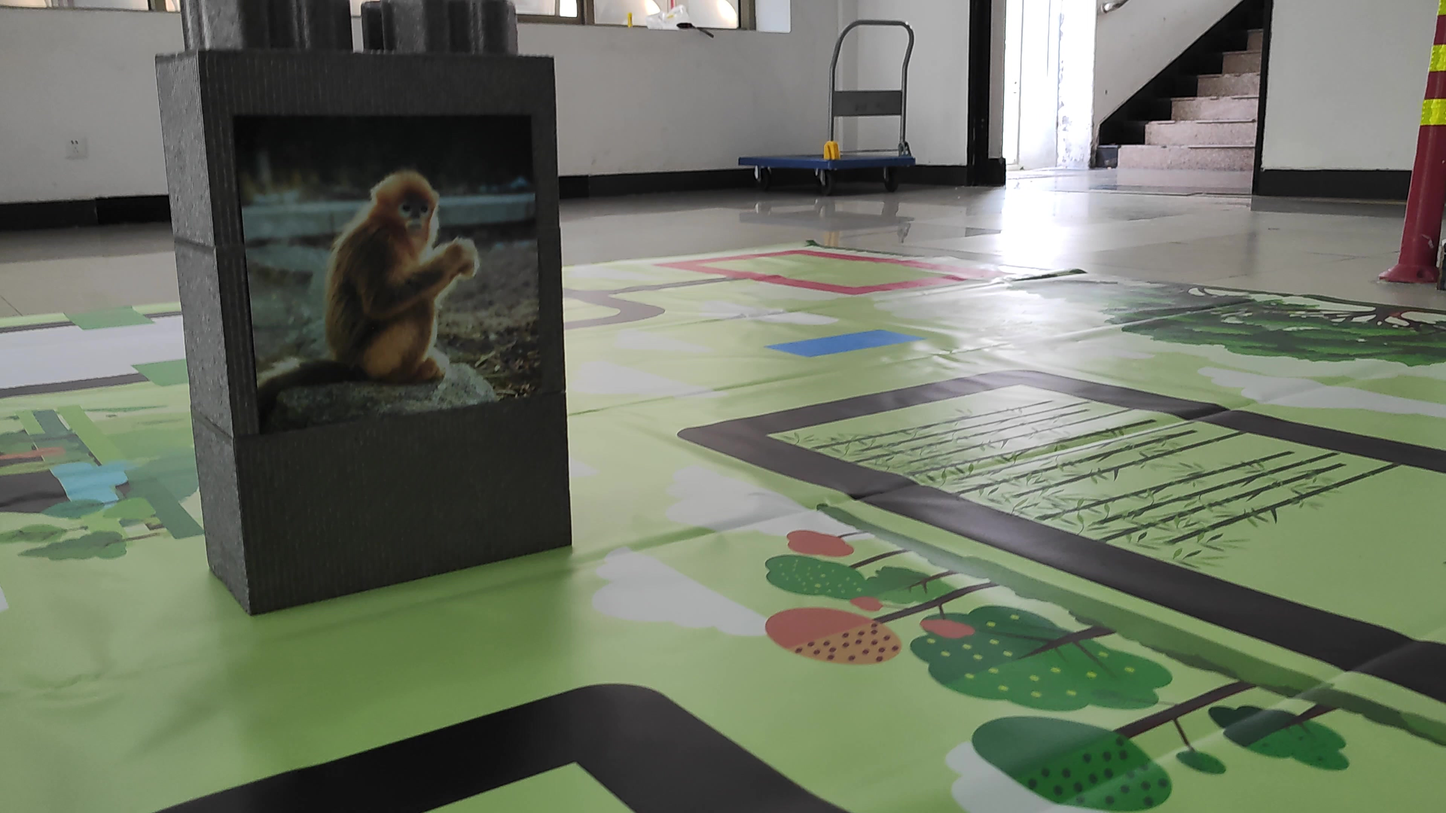monkey: (279, 134, 568, 383)
